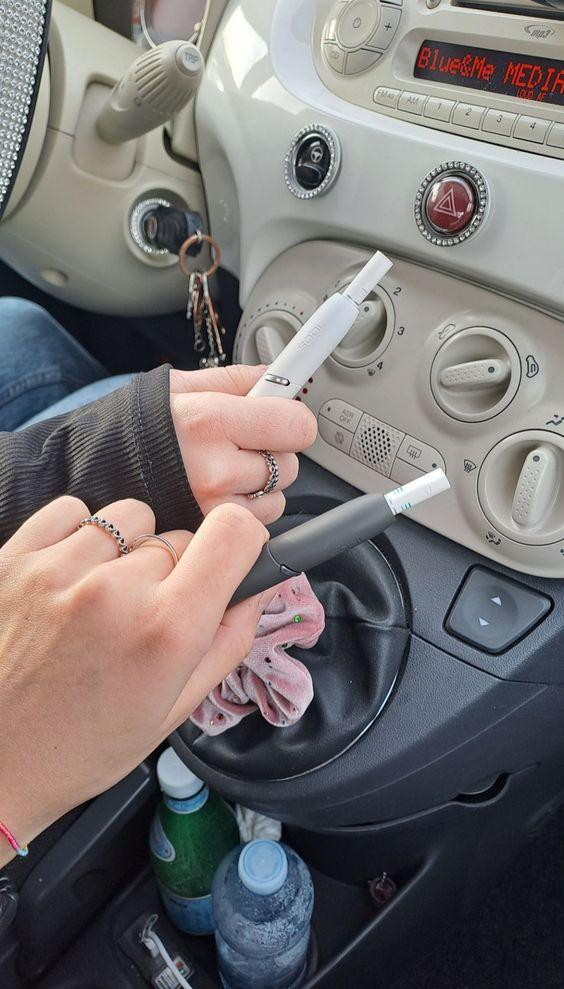iqos: (225, 468, 452, 608), (249, 252, 390, 396)
